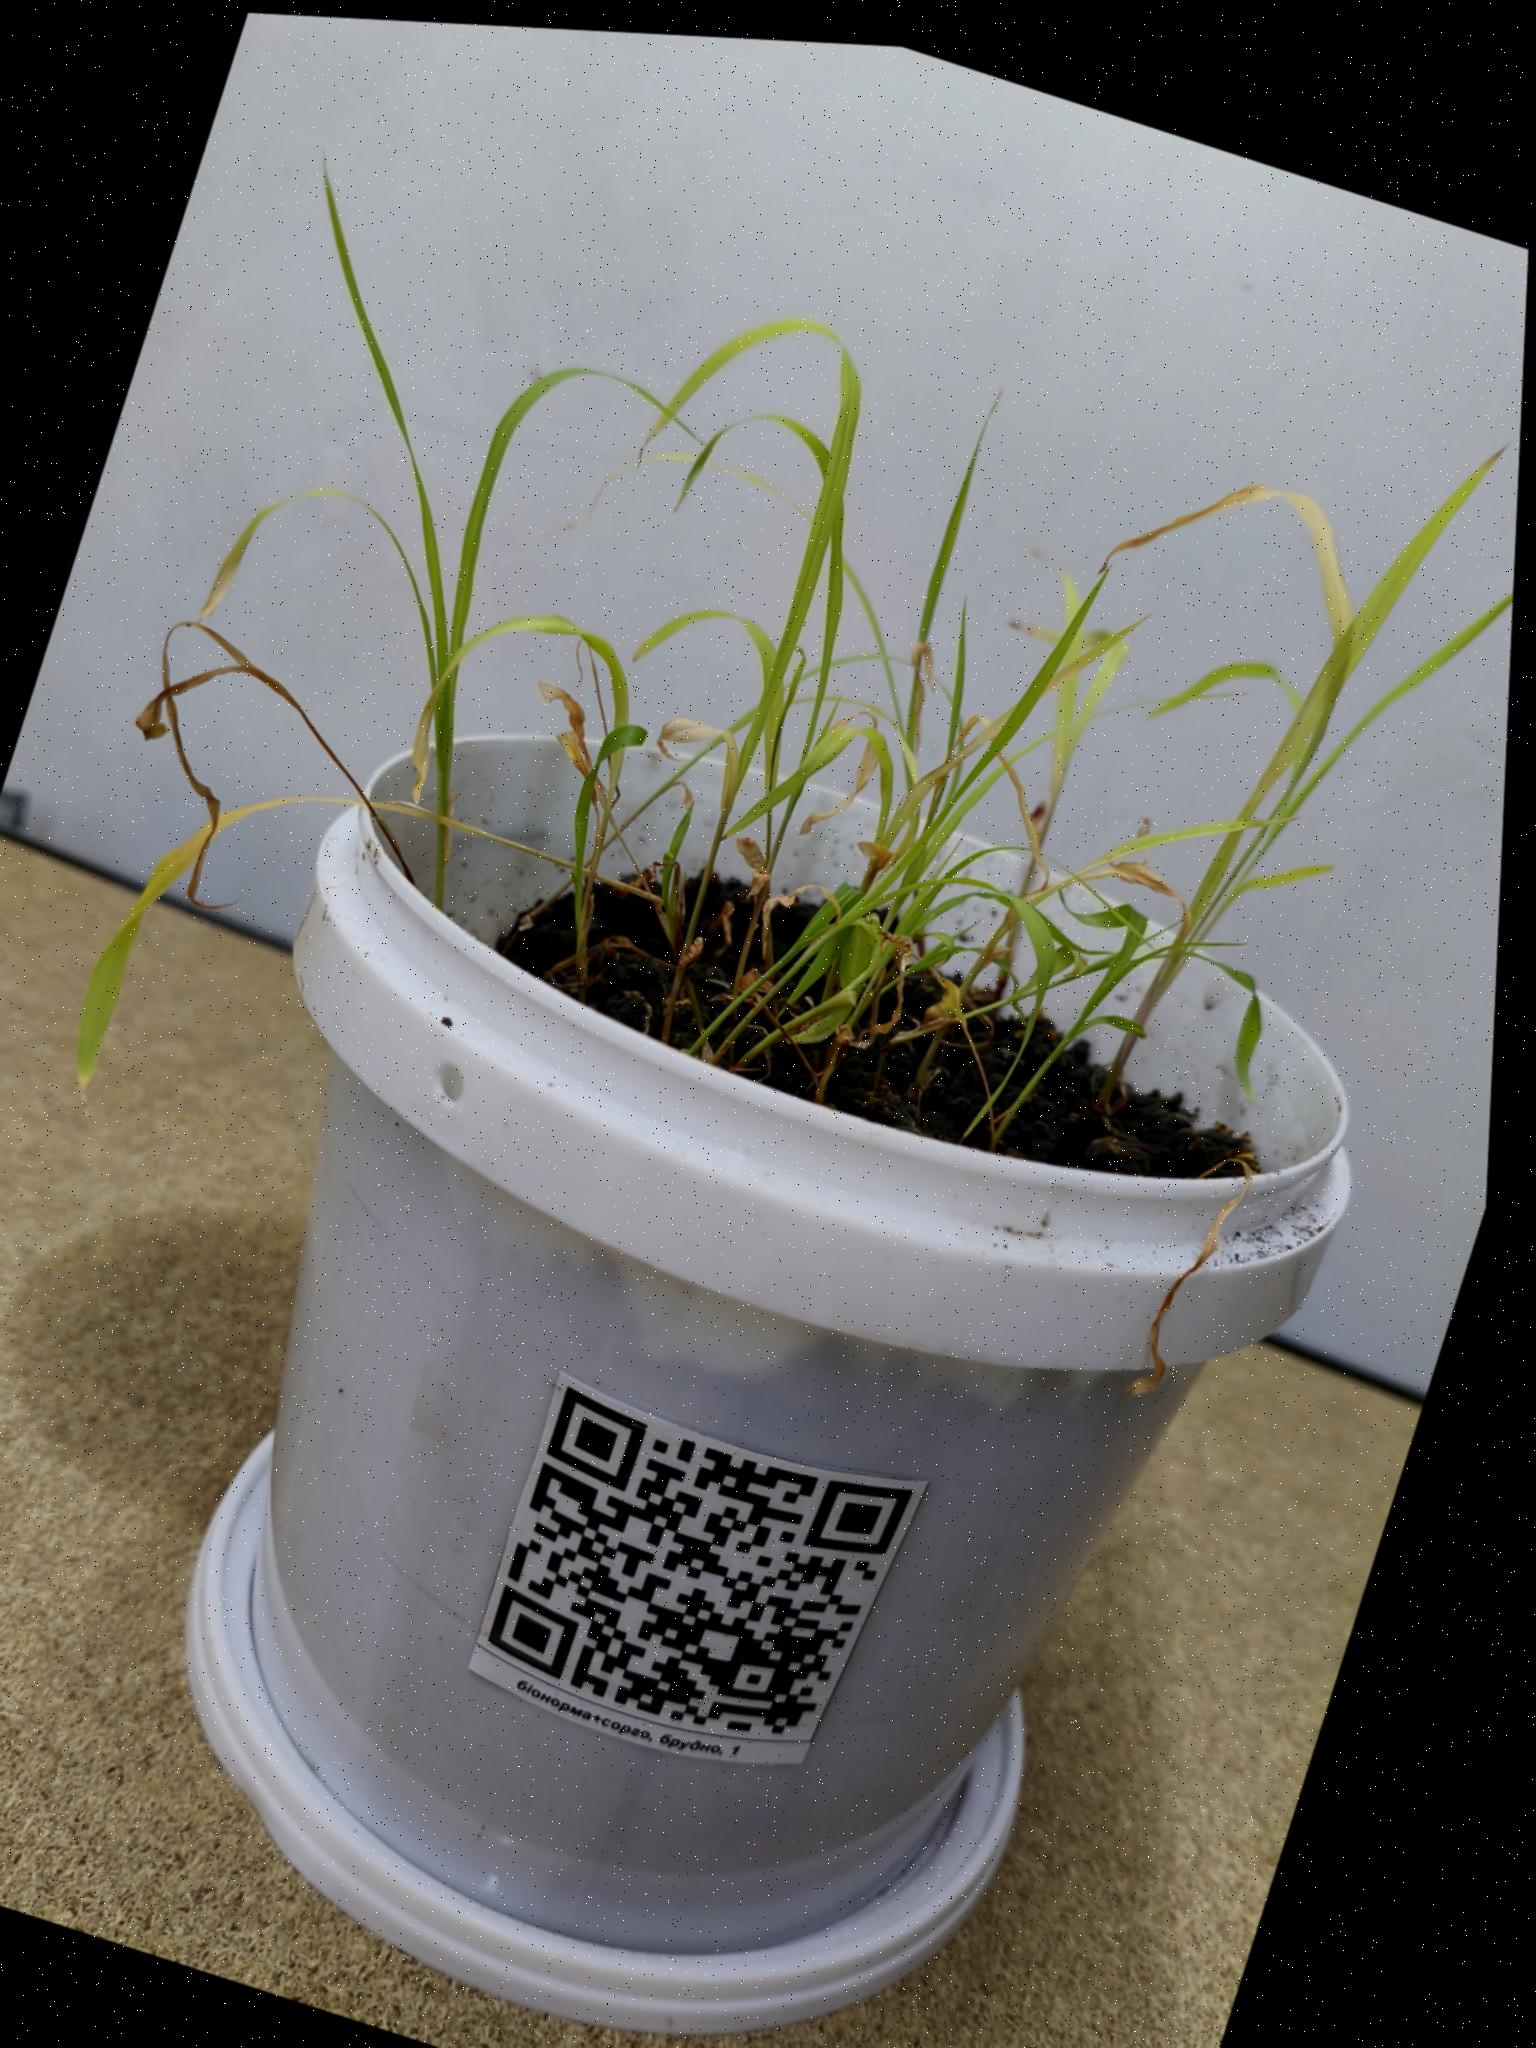container: (187, 735, 1349, 2035)
stem: (657, 816, 729, 1043), (907, 930, 1005, 1095), (887, 977, 1065, 1050), (734, 972, 865, 1069), (687, 947, 797, 1055), (710, 950, 812, 1063), (729, 824, 787, 1021), (1092, 974, 1170, 1111), (574, 798, 615, 998), (994, 1040, 1068, 1148), (815, 972, 881, 1087), (662, 922, 710, 1055), (434, 734, 452, 913)
